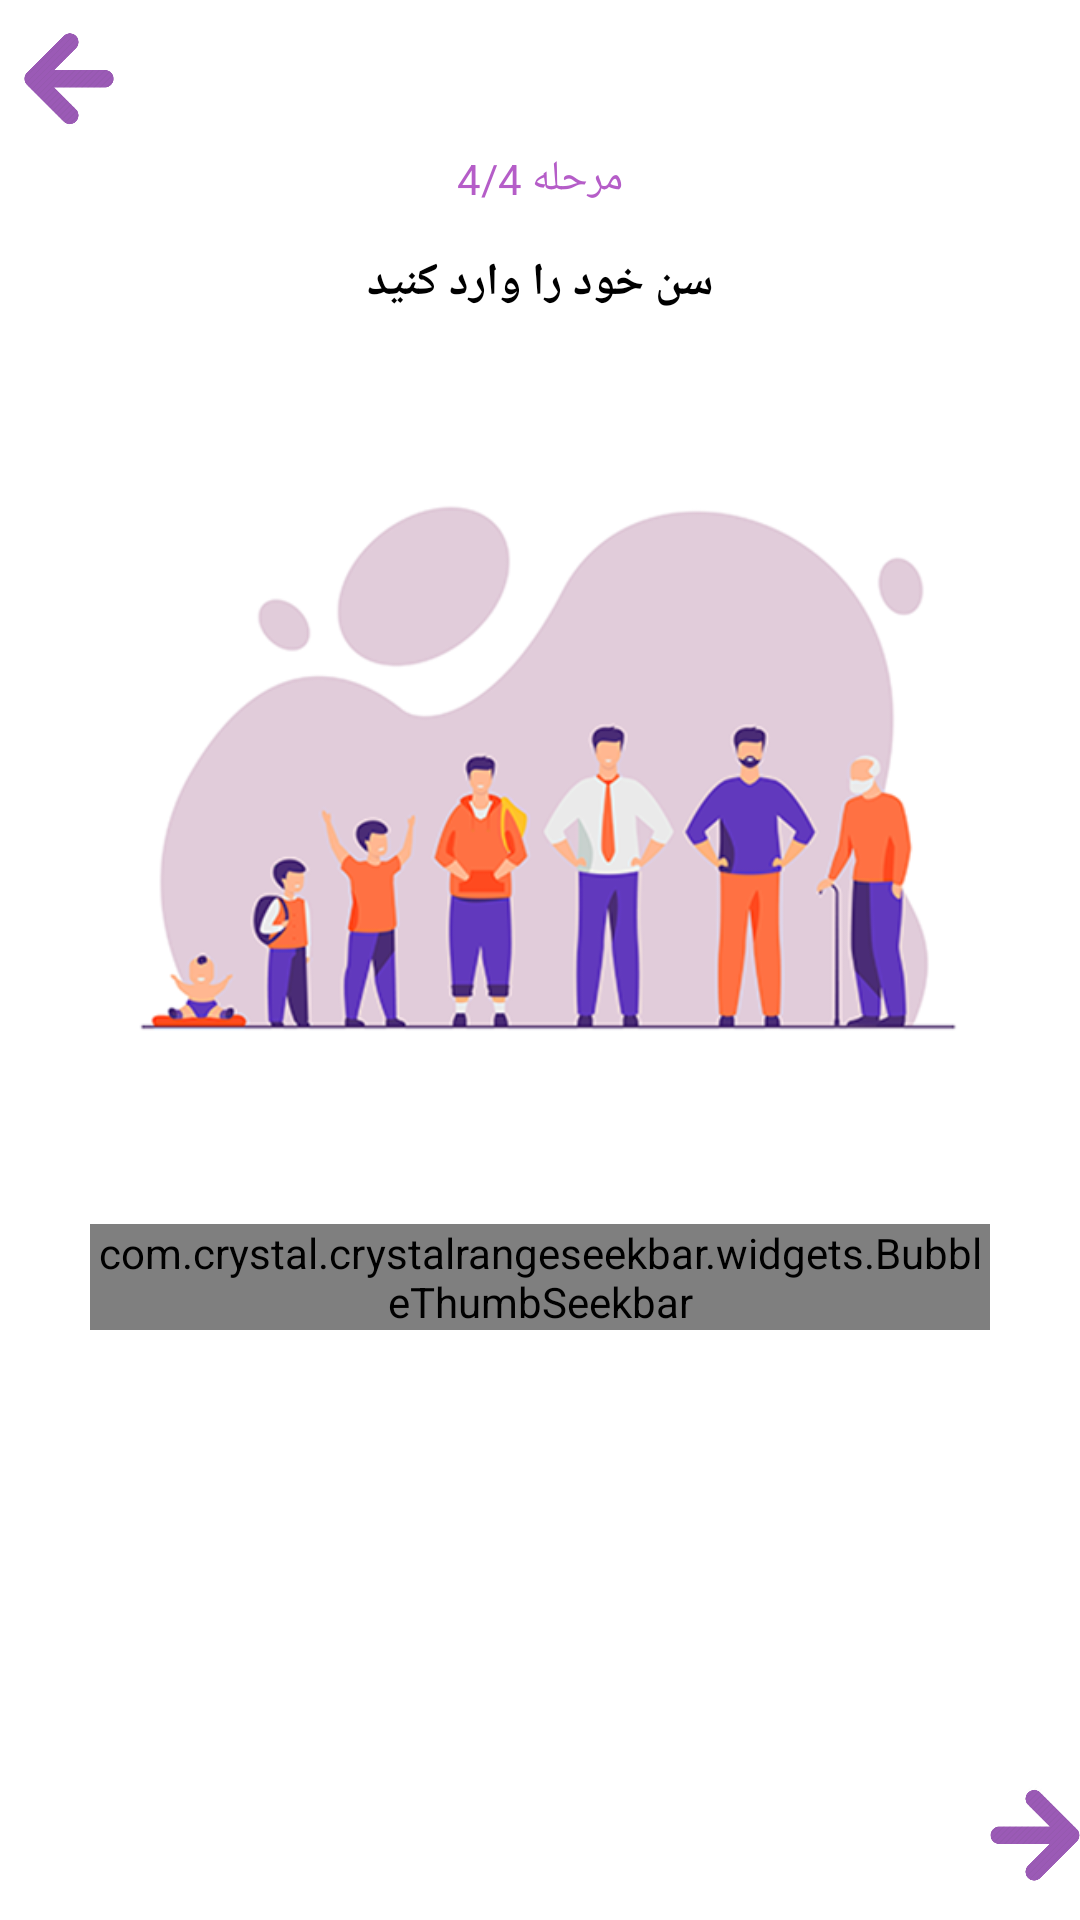

Locate icon controls on the screen. Image size 1080 x 1920, boxes as (x1, y1, x2, y2).
next: (990, 1790, 1080, 1881)
